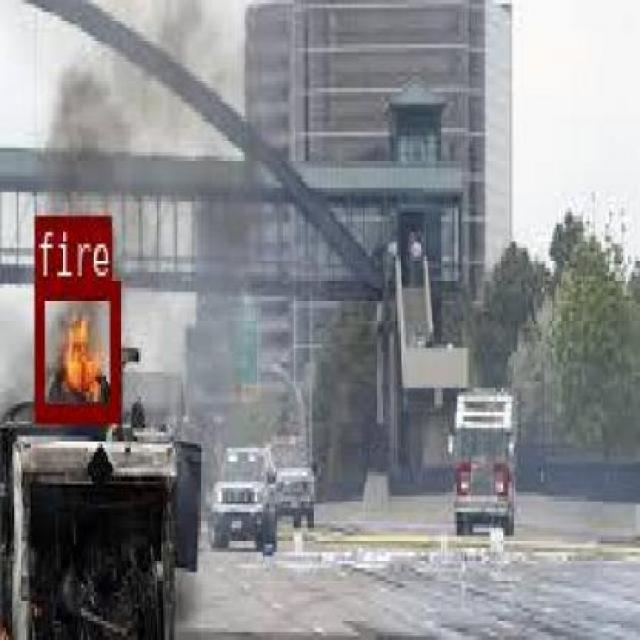Fire: (33, 279, 116, 418)
